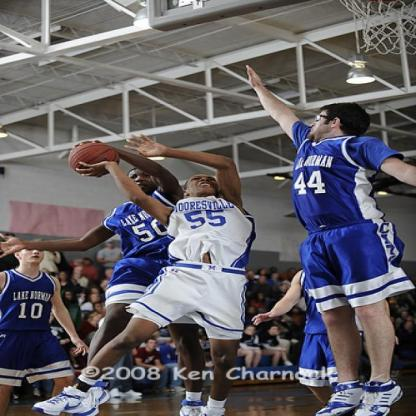basketball: (70, 140, 122, 180)
